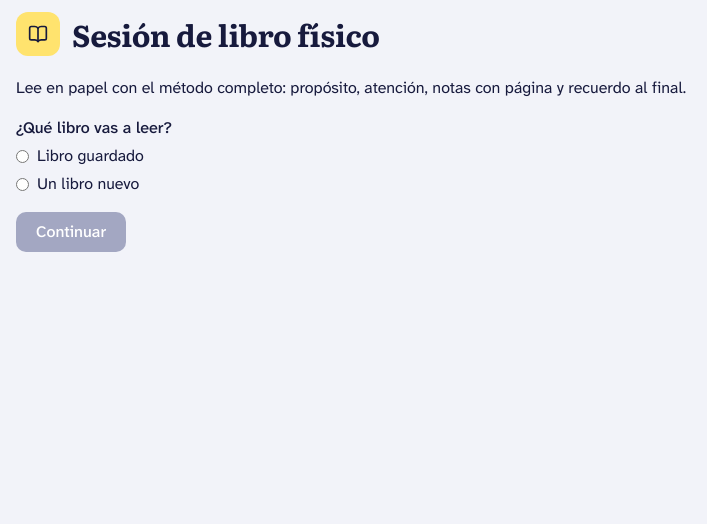
Test: PhysicalSessionPage › reutiliza un libro existente y su estimación de palabras por página
Click the radio button labelled "Libro guardado" at (22, 156), box [16,150,29,162]
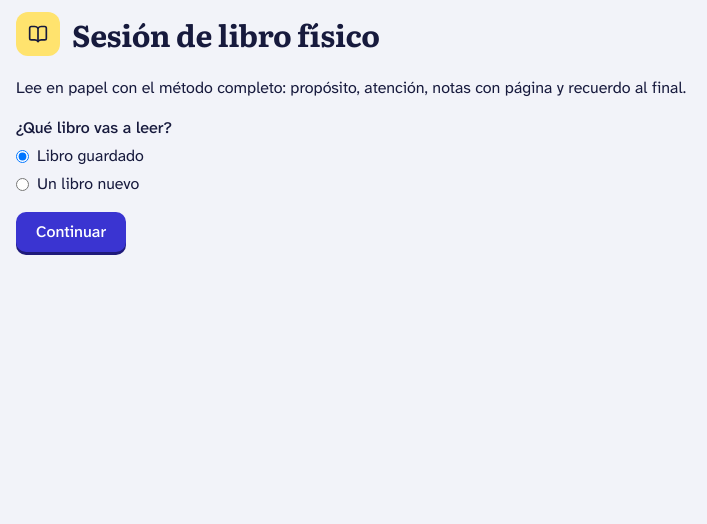
Click the button "Continuar" at (71, 232), box [16,212,126,252]
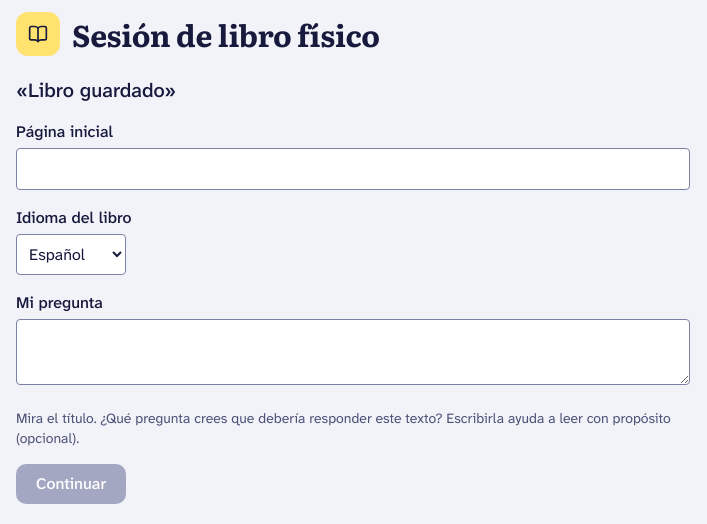
Type "1" into the field labelled "Página inicial" at (353, 169), box [16,148,690,190]
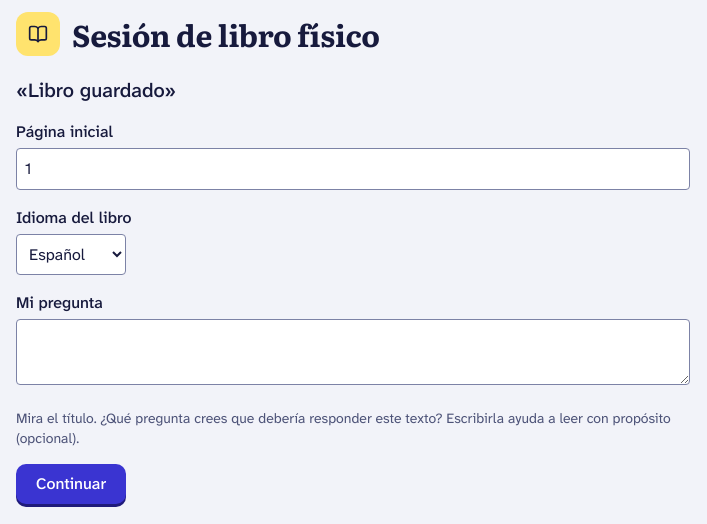
Click the button "Continuar" at (71, 484), box [16,464,126,504]
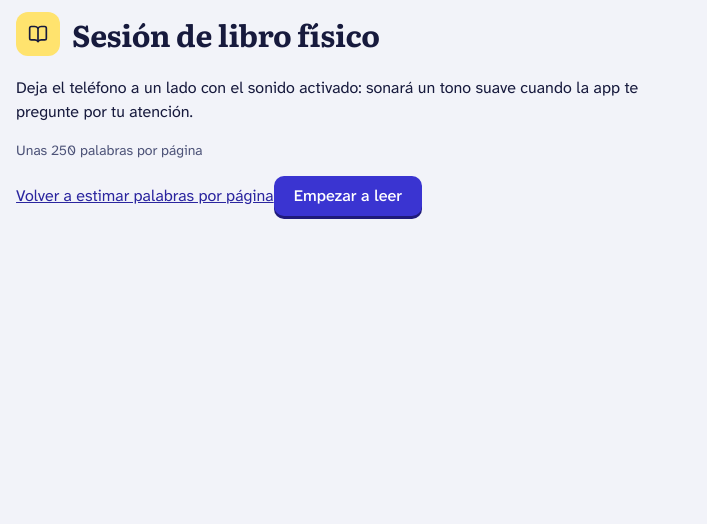
Result: the button "Empezar a leer" is shown at [274,176,422,216]
